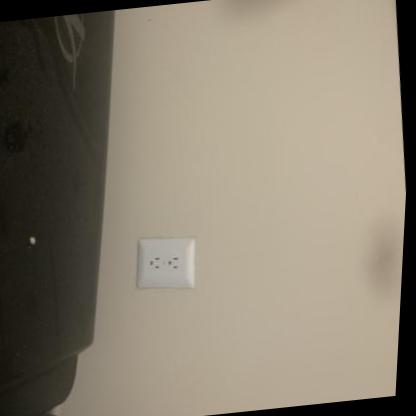OUTLET: (132, 234, 199, 290)
